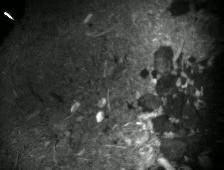corn: (93, 109, 107, 124), (68, 101, 84, 114), (80, 12, 95, 25), (96, 96, 109, 110)
